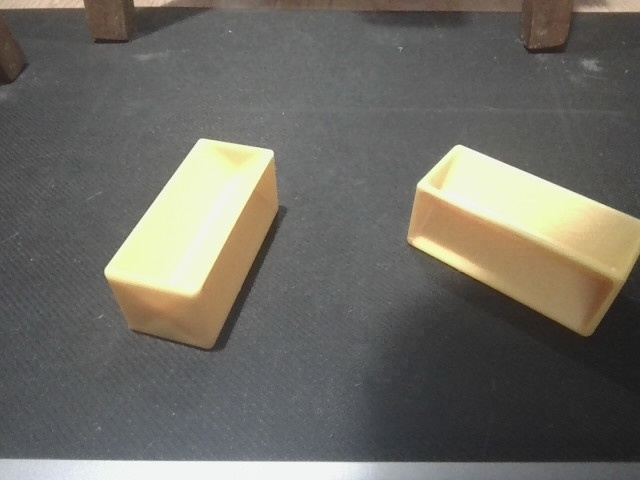YellowSample: (401, 141, 640, 344), (101, 135, 283, 353)
